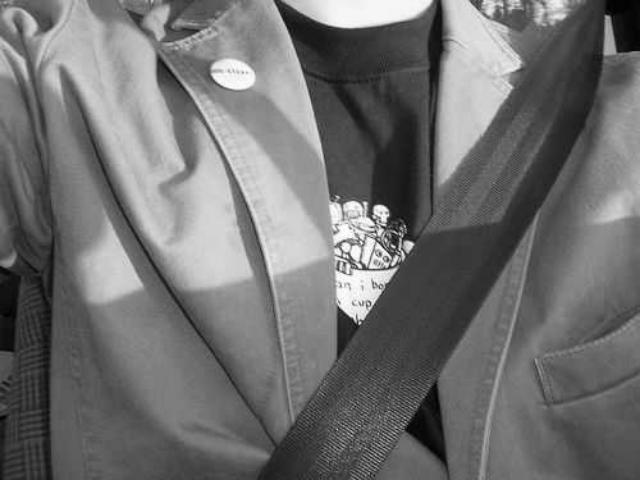Seatbelt: (254, 0, 610, 480)
